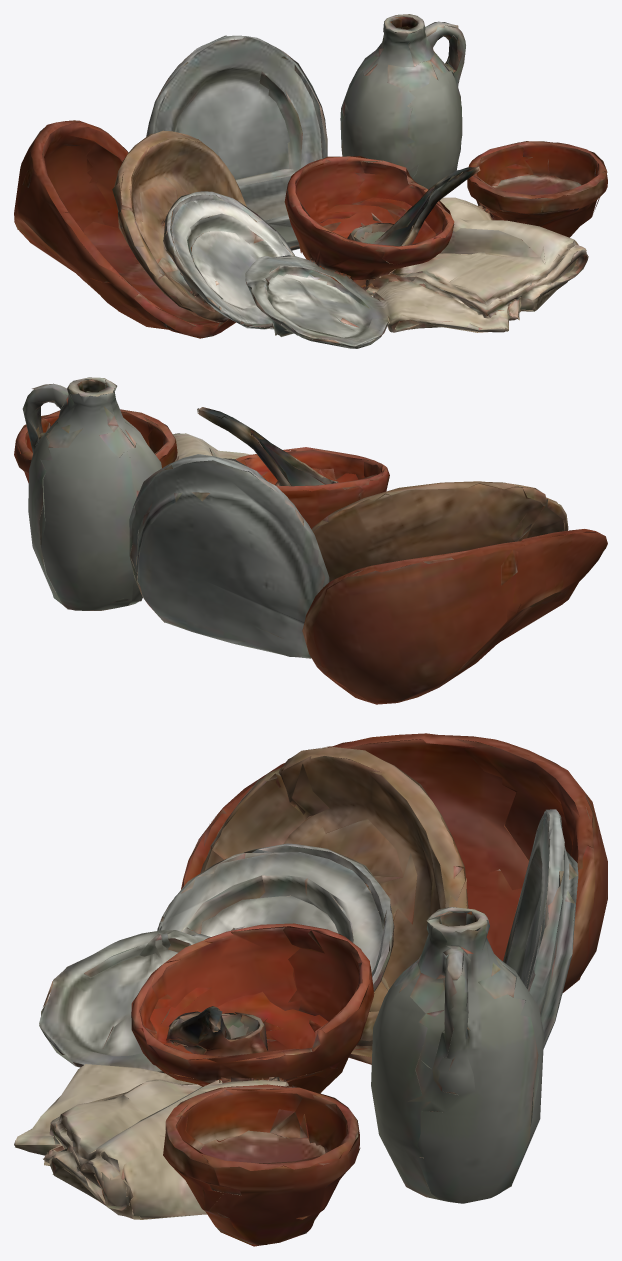
File: int-foodware-cluster.glb
3 views of the same model, one above another, from view 1: azimuth 30°, elevation 25°; view 2: azimuth 150°, elevation 25°; view 3: azimuth 270°, elevation 25° (orthographic). The views are drawn at different scales.
Parts seen in each view (by area): view 1: Mesh_0; view 2: Mesh_0; view 3: Mesh_0.
Boxes of the visible parts, x1,y1,x2,y2 form: Mesh_0: (14,14,607,348); Mesh_0: (14,377,607,704); Mesh_0: (14,733,607,1246).
Size of the model in its own units: 1.9 by 0.66 by 1.33.
Materials: 1 (1 with a texture image).
